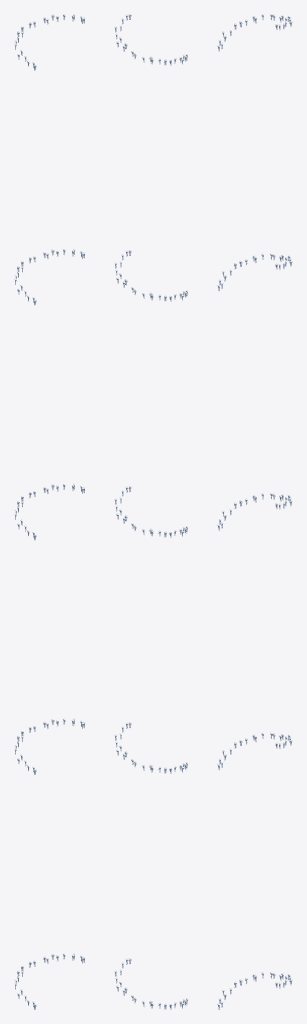
File: Circle9Crowd4.obj
3 views of the same model, side by side, from view 1: azimuth 30°, elevation 25°; view 2: azimuth 150°, elevation 25°; view 3: azimuth 330°, elevation 25° (orthographic). The views are drawn at different scales.
Visible parts, largest first — view 1: Circle9Crowd4; view 2: Circle9Crowd4; view 3: Circle9Crowd4.
Boxes of the visible parts, bbox=[...] form: Circle9Crowd4: bbox=[14, 14, 85, 1009]; Circle9Crowd4: bbox=[114, 14, 188, 1009]; Circle9Crowd4: bbox=[217, 14, 292, 1009].
Bounding box in the file's own units: 27.2 × 399 × 21.95.
Materials: 1 (1 with a texture image).
